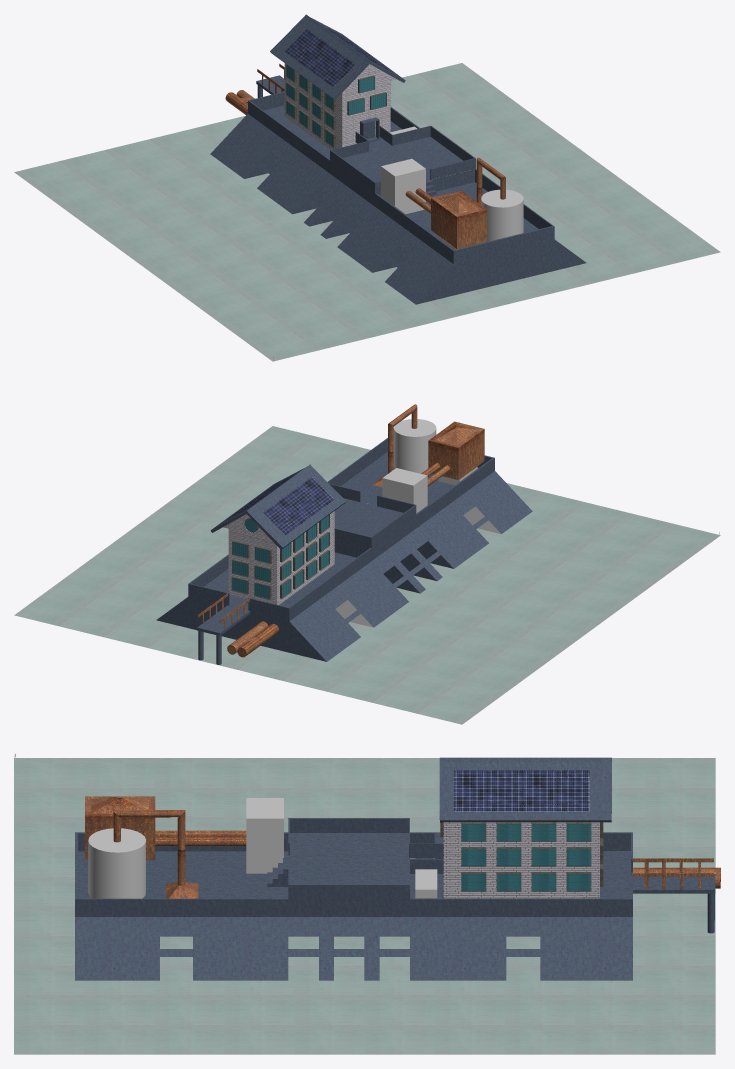
The model's file is Gezeitenkraftwerk_stufe_2.fbx.
3 renders of one model, top to bottom at view 1: azimuth 30°, elevation 25°; view 2: azimuth 150°, elevation 25°; view 3: azimuth 270°, elevation 25°, orthographic. The views are drawn at different scales.
Parts seen in each view (by area): view 1: GezeitenKW1; view 2: GezeitenKW1; view 3: GezeitenKW1.
Boxes of the visible parts, x1,y1,x2,y2 form: GezeitenKW1: (14, 14, 720, 361); GezeitenKW1: (14, 404, 720, 724); GezeitenKW1: (14, 753, 720, 1054).
Bounding box in the file's own units: 200 × 52.91 × 202.
